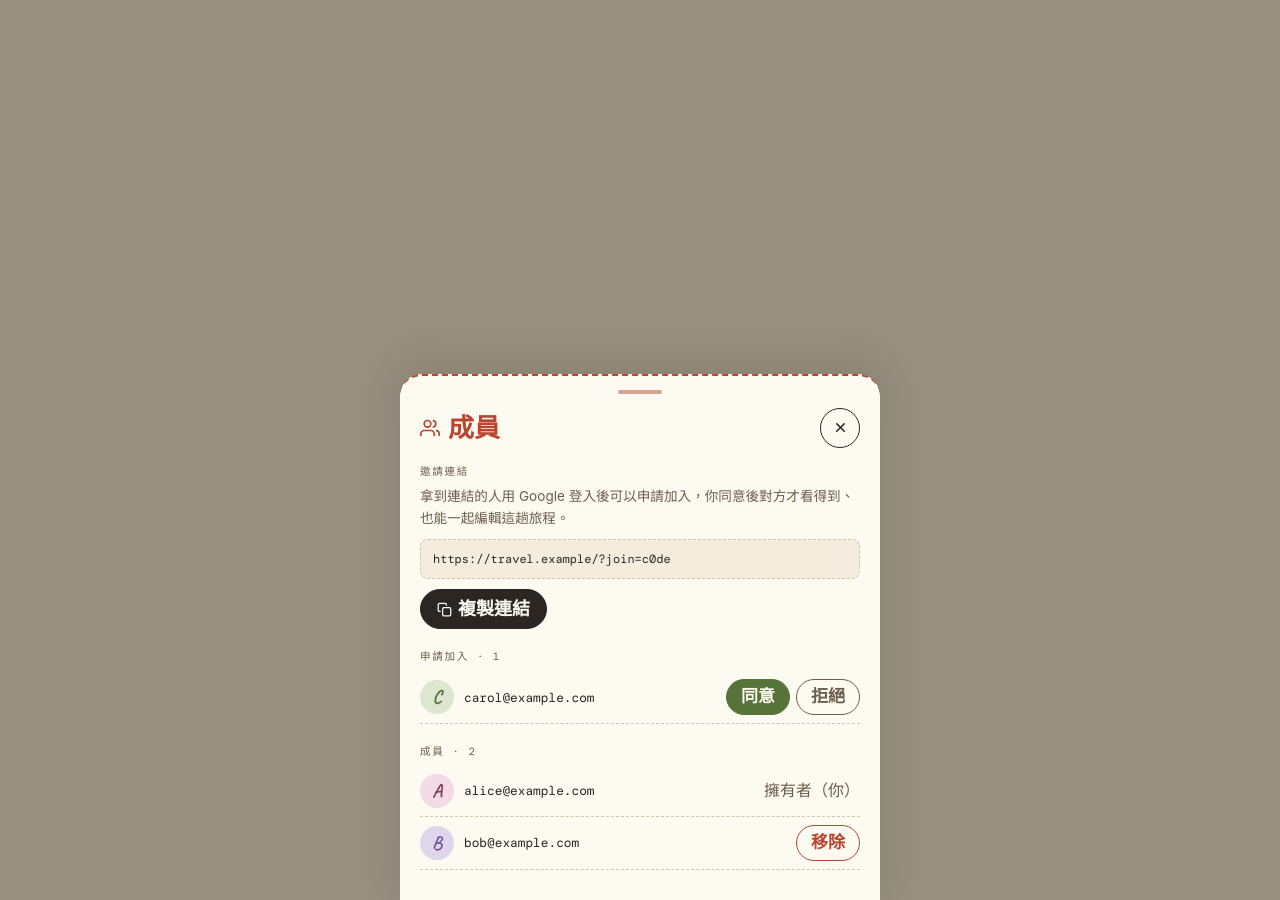
Test: 擁有者 › 複製連結
Click the button "複製連結" at (484, 609), box [420, 589, 547, 629]
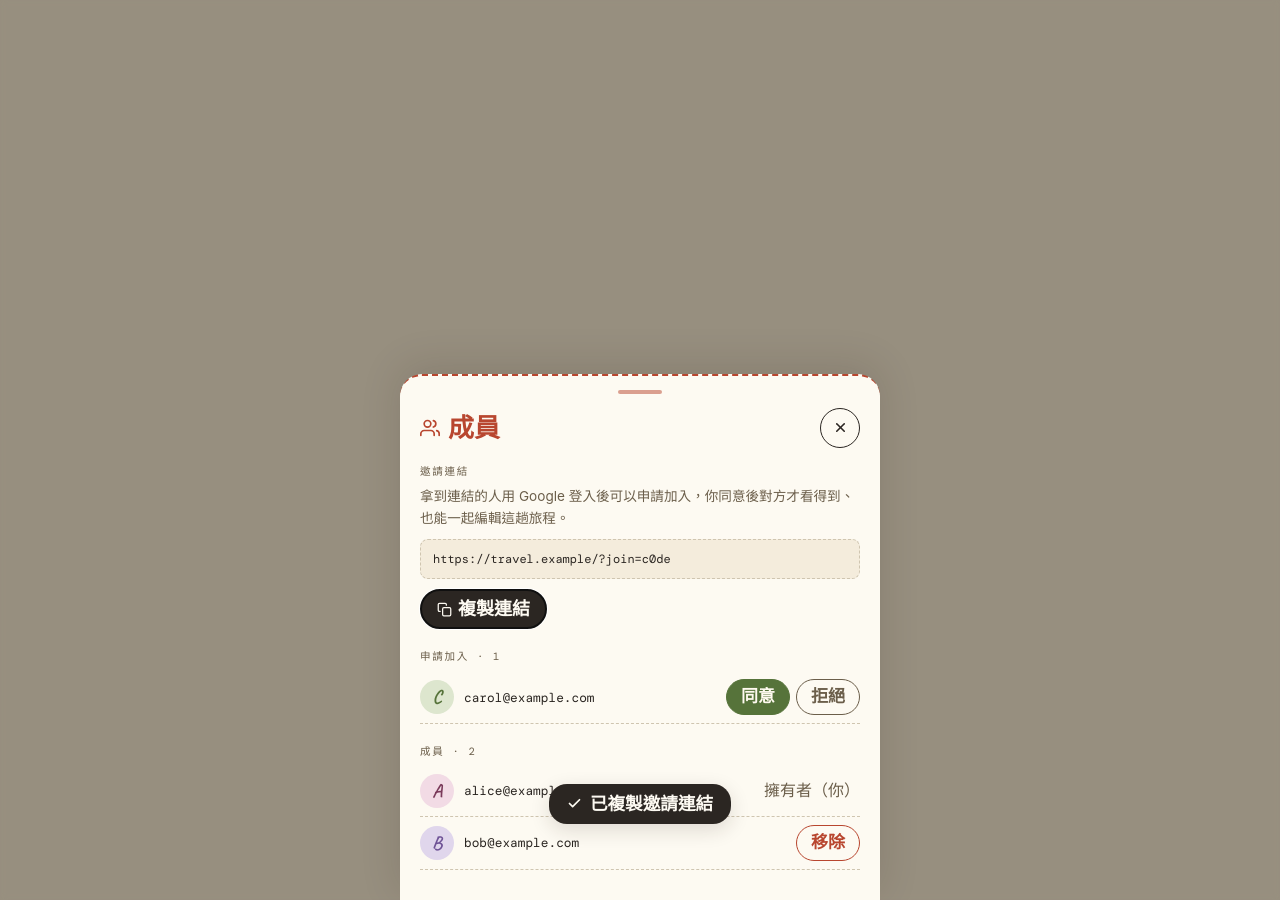
Now the message reads "已複製邀請連結", box [590, 793, 713, 815]
